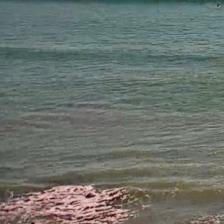surfer: (216, 4, 221, 8)
